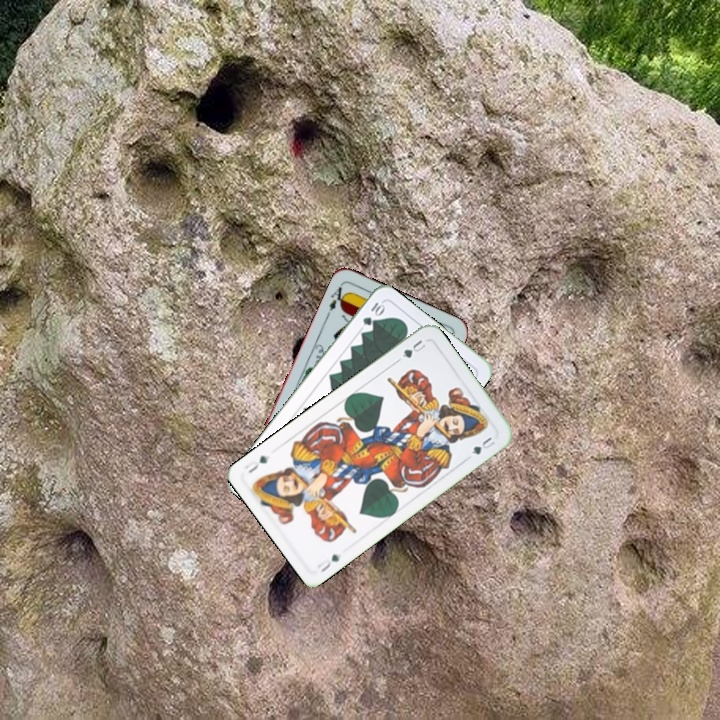EA: (325, 280, 350, 314)
G10: (358, 298, 387, 328)
GU: (398, 335, 428, 361), (317, 550, 342, 575)
